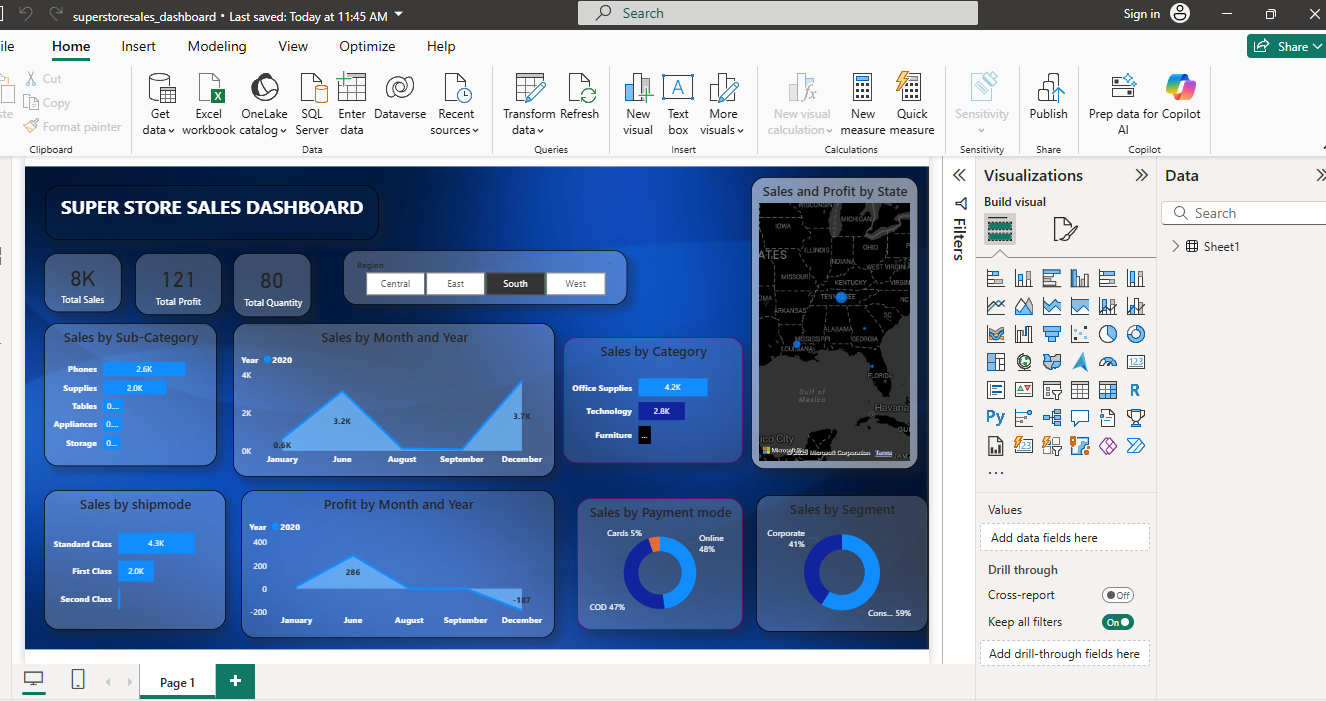

The dashboard page shown, as its layout file describes it:
{"tool":"powerbi","page":{"name":"Page 1","canvas":[1280,720],"ordinal":0},"visuals":[{"type":"clusteredBarChart","title":" Sales by Category","fields":{"Category":["Sheet1.Category"],"Y":["Sum(Sheet1.Sales)"]},"box":[762.5,256.5,255.1,178.6],"z":0},{"type":"clusteredBarChart","title":" Sales by Sub-Category","fields":{"Y":["Sum(Sheet1.Sales)"],"Category":["Sheet1.Sub-Category"]},"box":[26.9,236.7,245.2,202.7],"z":1000},{"type":"clusteredBarChart","title":" Sales by shipmode ","fields":{"Y":["Sum(Sheet1.Sales)"],"Category":["Sheet1.Ship Mode"]},"box":[26.9,473.4,258,198.4],"z":2000},{"type":"stackedAreaChart","title":" Sales by Month and Year","fields":{"Y":["Sum(Sheet1.Sales)"],"Series":["Sheet1.Order Date.Variation.Date Hierarchy.Year"],"Category":["Sheet1.Order Date.Variation.Date Hierarchy.Month"]},"box":[294.8,236.7,456.4,218.3],"z":3000},{"type":"stackedAreaChart","title":"Profit by Month and Year","fields":{"Series":["Sheet1.Order Date.Variation.Date Hierarchy.Year"],"Category":["Sheet1.Order Date.Variation.Date Hierarchy.Month"],"Y":["Sum(Sheet1.Profit)"]},"box":[306.1,473.4,445,209.8],"z":4000},{"type":"map","fields":{"Category":["Sheet1.State"],"Size":["Sum(Sheet1.Sales)"]},"box":[1029,29.8,236.7,413.9],"z":5000},{"type":"donutChart","title":" Sales by Segment","fields":{"Category":["Sheet1.Segment"],"Y":["Sum(Sheet1.Sales)"]},"box":[1036.1,480.5,243.8,194.2],"z":6000},{"type":"donutChart","title":" Sales by Payment mode ","fields":{"Y":["Sum(Sheet1.Sales)"],"Category":["Sheet1.Payment Mode"]},"box":[782.4,484.7,235.3,187.1],"z":7000},{"type":"slicer","fields":{"Values":["Sheet1.Region"]},"box":[450.7,133.2,402.5,78],"z":8000},{"type":"textbox","box":[28.3,41.1,473.4,78],"z":9000},{"type":"card","fields":{"Values":["Sum(Sheet1.Sales)"]},"box":[26.9,137.5,110,84],"z":10000},{"type":"card","title":"QUANTITY","fields":{"Values":["Sum(Sheet1.Quantity)"]},"box":[294.8,137.5,110.6,90.7],"z":11000},{"type":"card","title":"QUANTITY","fields":{"Values":["Sum(Sheet1.Profit)"]},"box":[155.9,137.5,123.3,87.9],"z":12000}]}

Visuals, with their boxes on the page's 1280x720 design canvas (x1, y1, x2, y2). These are canvas units, not pixel positions in the 1326x701 screenshot, which may show the page scaled, cropped or inside an application window:
" Sales by Category" clusteredBarChart: select_region(762, 256, 1018, 435)
" Sales by Sub-Category" clusteredBarChart: select_region(27, 237, 272, 439)
" Sales by shipmode " clusteredBarChart: select_region(27, 473, 285, 672)
" Sales by Month and Year" stackedAreaChart: select_region(295, 237, 751, 455)
"Profit by Month and Year" stackedAreaChart: select_region(306, 473, 751, 683)
map - Sheet1.State x Sum(Sheet1.Sales): select_region(1029, 30, 1266, 444)
" Sales by Segment" donutChart: select_region(1036, 480, 1280, 675)
" Sales by Payment mode " donutChart: select_region(782, 485, 1018, 672)
slicer - Sheet1.Region: select_region(451, 133, 853, 211)
textbox: select_region(28, 41, 502, 119)
card - Sum(Sheet1.Sales): select_region(27, 138, 137, 222)
"QUANTITY" card: select_region(295, 138, 405, 228)
"QUANTITY" card: select_region(156, 138, 279, 225)
